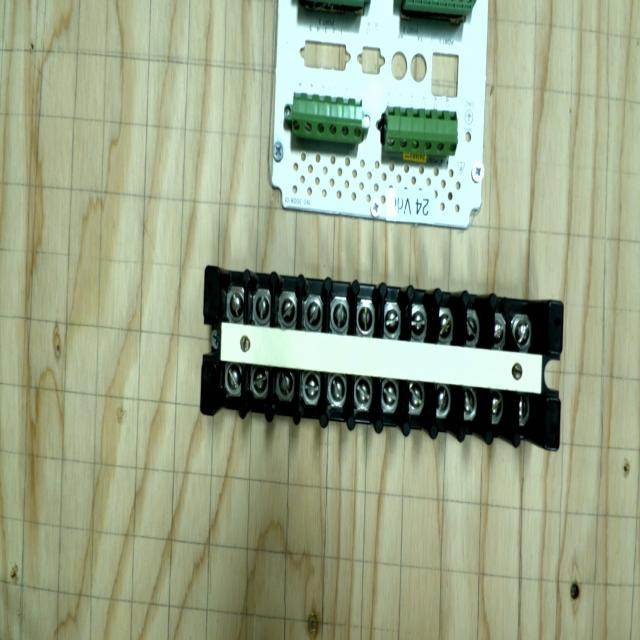Flathead_Block: (190, 265, 574, 450)
Terminal_1: (289, 91, 366, 142), (384, 106, 460, 156)
